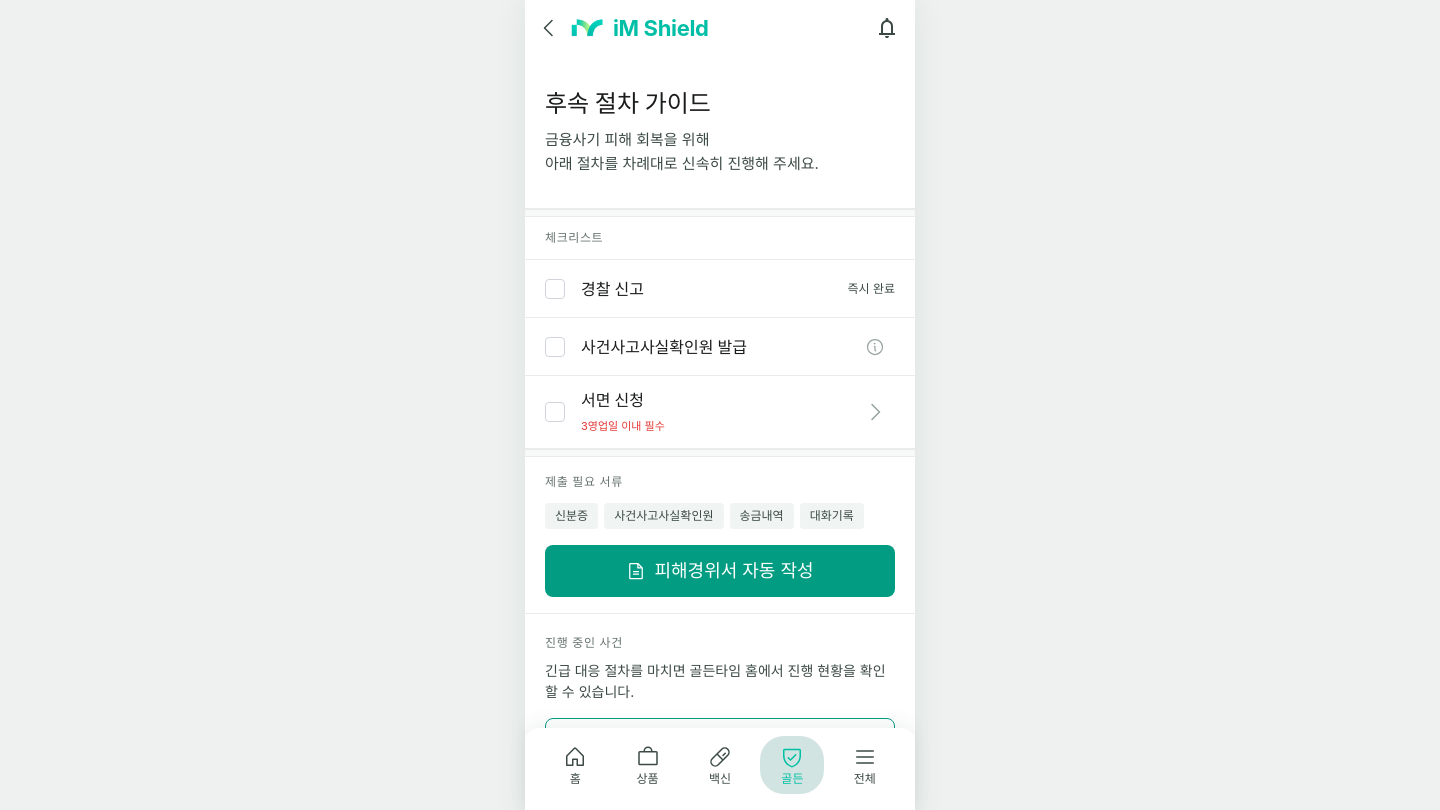
Test case: home report and golden time routes › opens follow-up checklist guidance and shows an honest prevention card
Click the button named "사건사고사실확인원 발급 안내". click: point(875, 346)
box: x1=855 y1=326 x2=895 y2=366
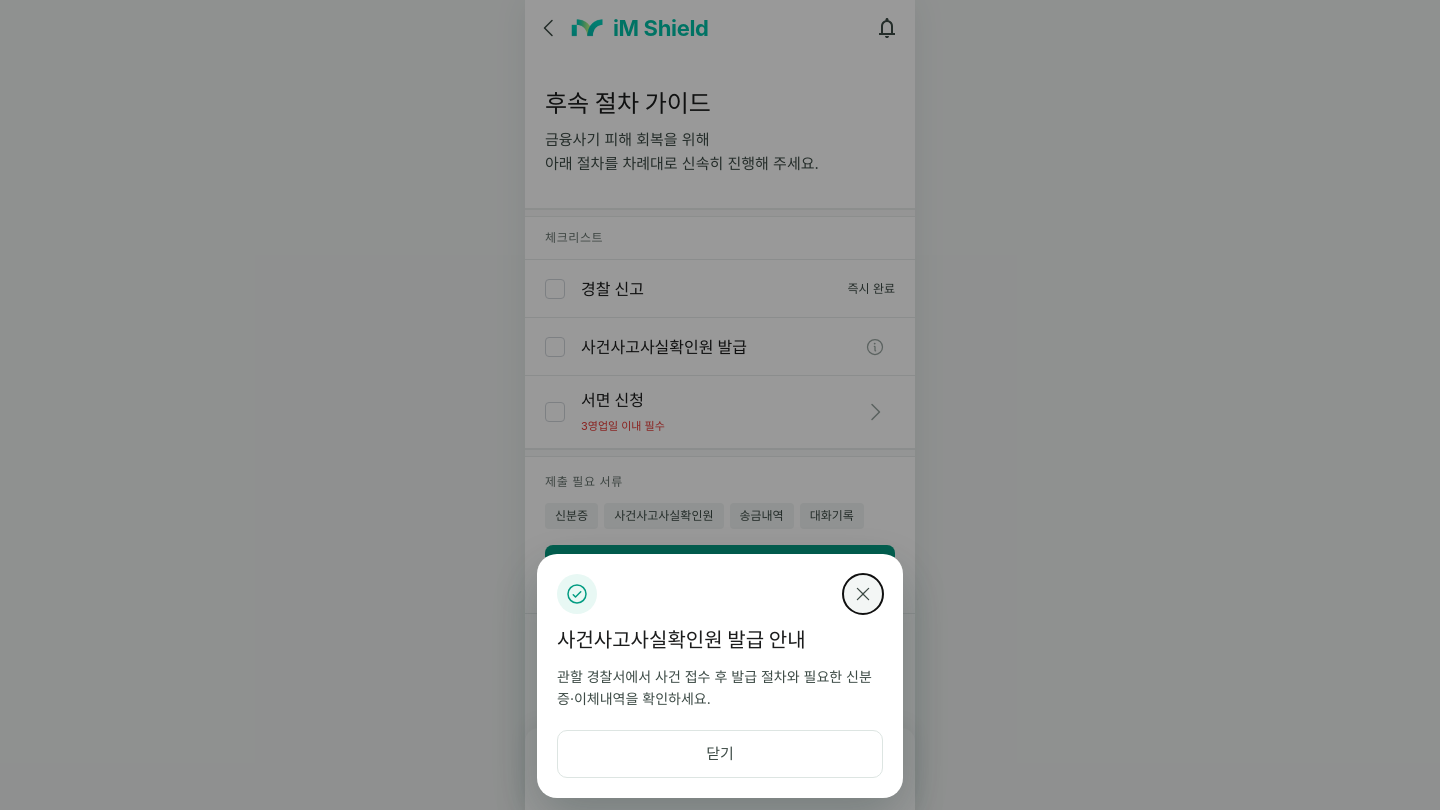
Expected: the dialog "사건사고사실확인원 발급 안내" is shown, x1=537 y1=554 x2=903 y2=798
Click the button "닫기". click: point(720, 754)
box: x1=557 y1=730 x2=883 y2=778
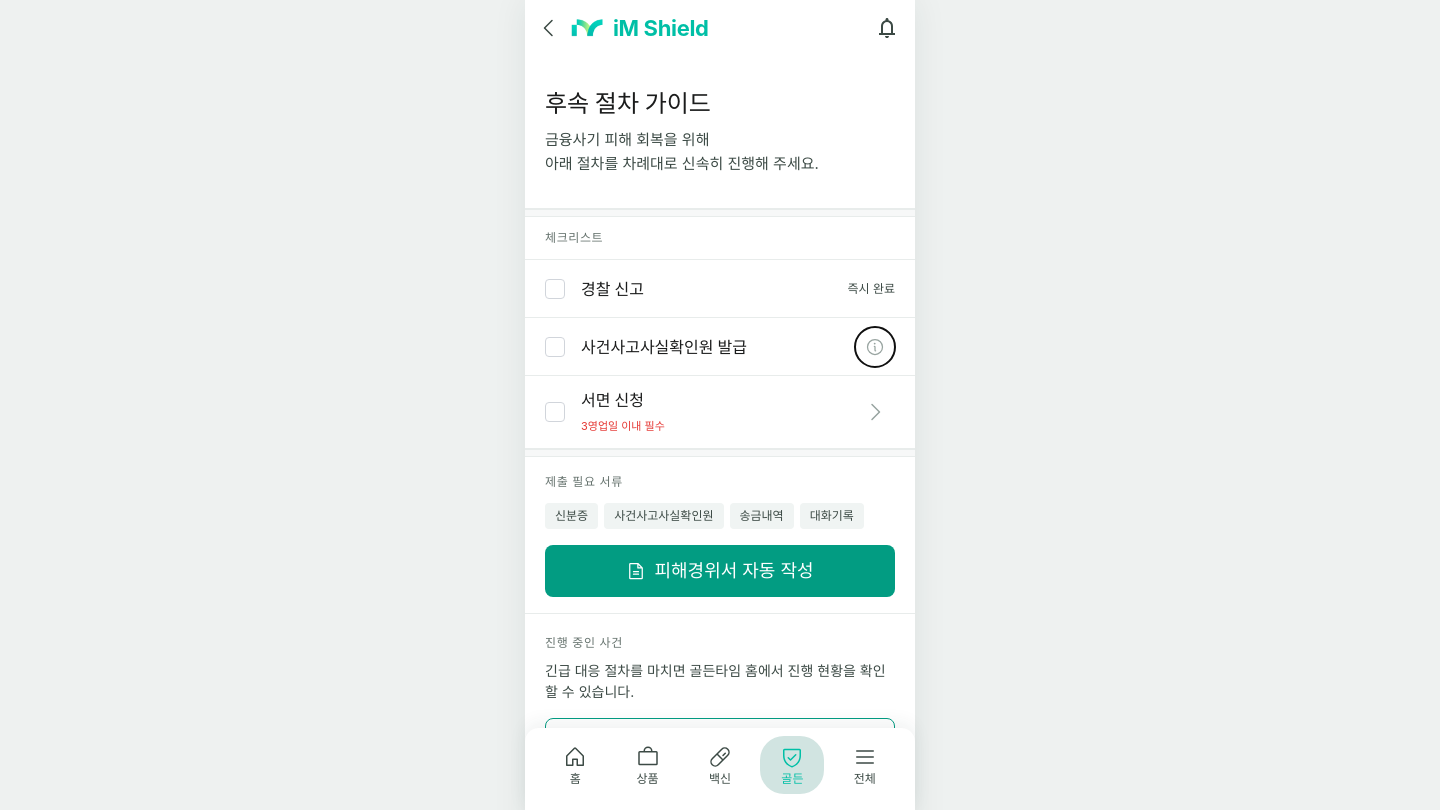
Click the button "피해경위서 자동 작성". click: point(720, 571)
box: x1=545 y1=545 x2=895 y2=597
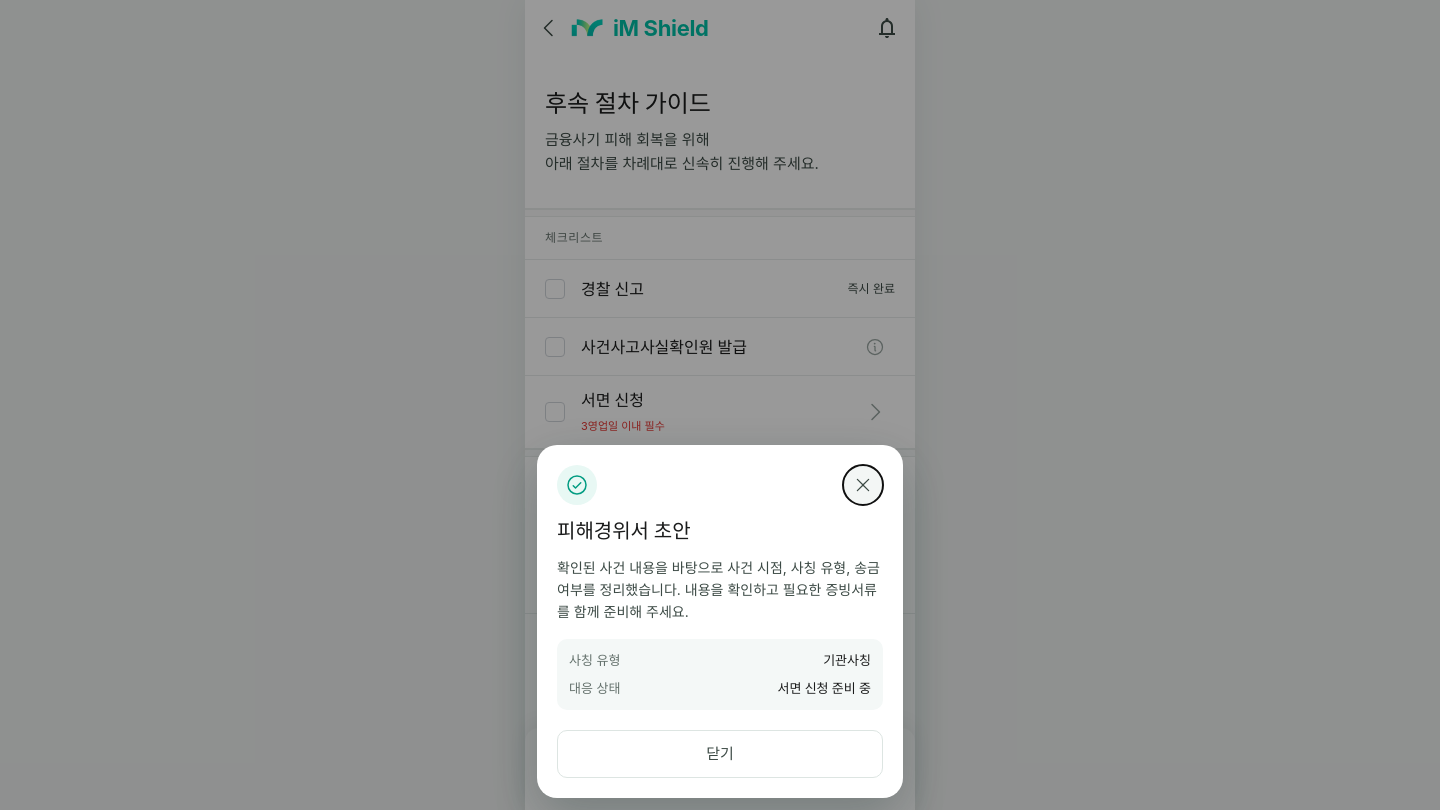
Expected: the dialog "피해경위서 초안" is shown, x1=537 y1=445 x2=903 y2=798
Expected: the text "확인된 사건 내용을 바탕으로" is shown, x1=557 y1=559 x2=880 y2=620
